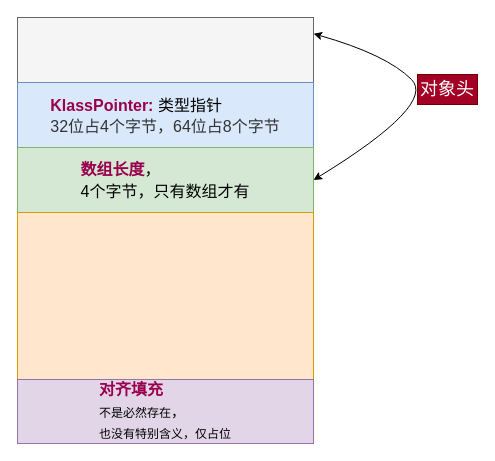
Some shapes in this 495 by 461 pixel diagram are drawn without their labels. The shapes that lost their labels are listed below. From the top down, each one's centre as x and y in pixels, then its label:
At pixel 165 49: "markWord :标记字段， 32位占4个字节，64位占8个字节".
At pixel 165 296: "对象实际数据".
